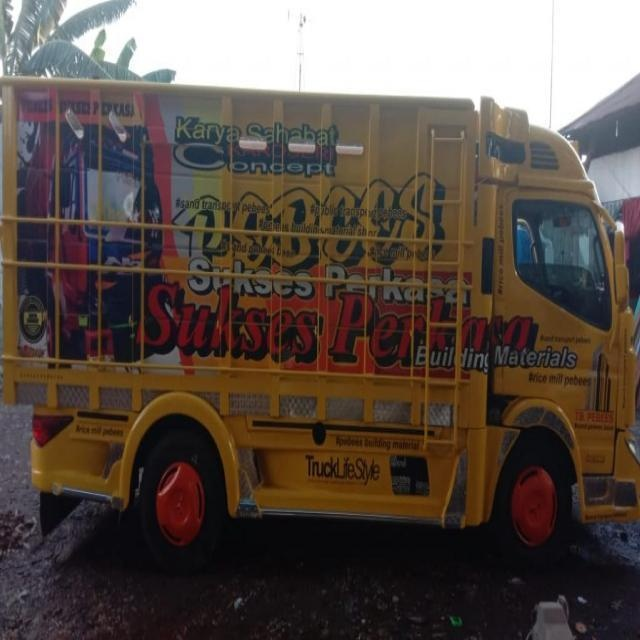Truck: (0, 75, 639, 567)
